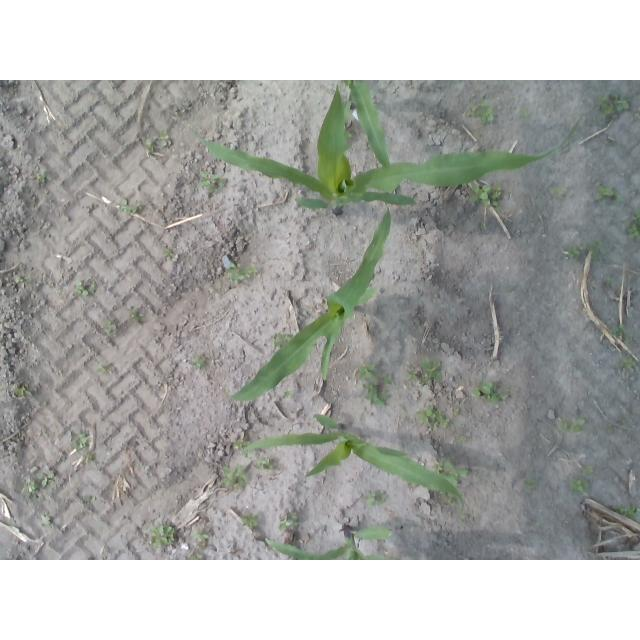Maize: (189, 85, 584, 216), (230, 209, 392, 404), (228, 414, 465, 510), (263, 524, 393, 560), (346, 81, 392, 168)
Weeds: (599, 90, 630, 115), (470, 183, 501, 205), (367, 380, 390, 405), (149, 525, 176, 544), (223, 466, 246, 488), (199, 171, 226, 189), (595, 185, 620, 204), (476, 383, 500, 402), (447, 460, 469, 480), (422, 360, 442, 381), (281, 511, 298, 530), (560, 418, 585, 430), (230, 264, 244, 284), (358, 364, 375, 380), (37, 471, 55, 486), (121, 199, 140, 213), (242, 513, 259, 528), (418, 407, 436, 421), (72, 434, 89, 448), (481, 107, 495, 124), (78, 281, 94, 295), (621, 355, 635, 370), (573, 478, 589, 491), (619, 503, 638, 513), (613, 324, 627, 337), (161, 135, 173, 149), (467, 104, 481, 116), (190, 356, 206, 366), (549, 187, 564, 197), (262, 457, 274, 469), (626, 225, 639, 236), (127, 305, 141, 315), (40, 515, 52, 526), (439, 415, 450, 427), (163, 249, 175, 260), (105, 321, 117, 332), (524, 478, 535, 489), (247, 264, 258, 275), (24, 481, 36, 491), (14, 386, 26, 396), (368, 492, 377, 505), (37, 173, 47, 184), (196, 533, 209, 541), (406, 369, 416, 379), (98, 363, 110, 371), (570, 247, 579, 257), (433, 462, 444, 470), (380, 491, 388, 502), (632, 211, 640, 221), (583, 465, 593, 472), (455, 407, 460, 414), (458, 436, 466, 440)
